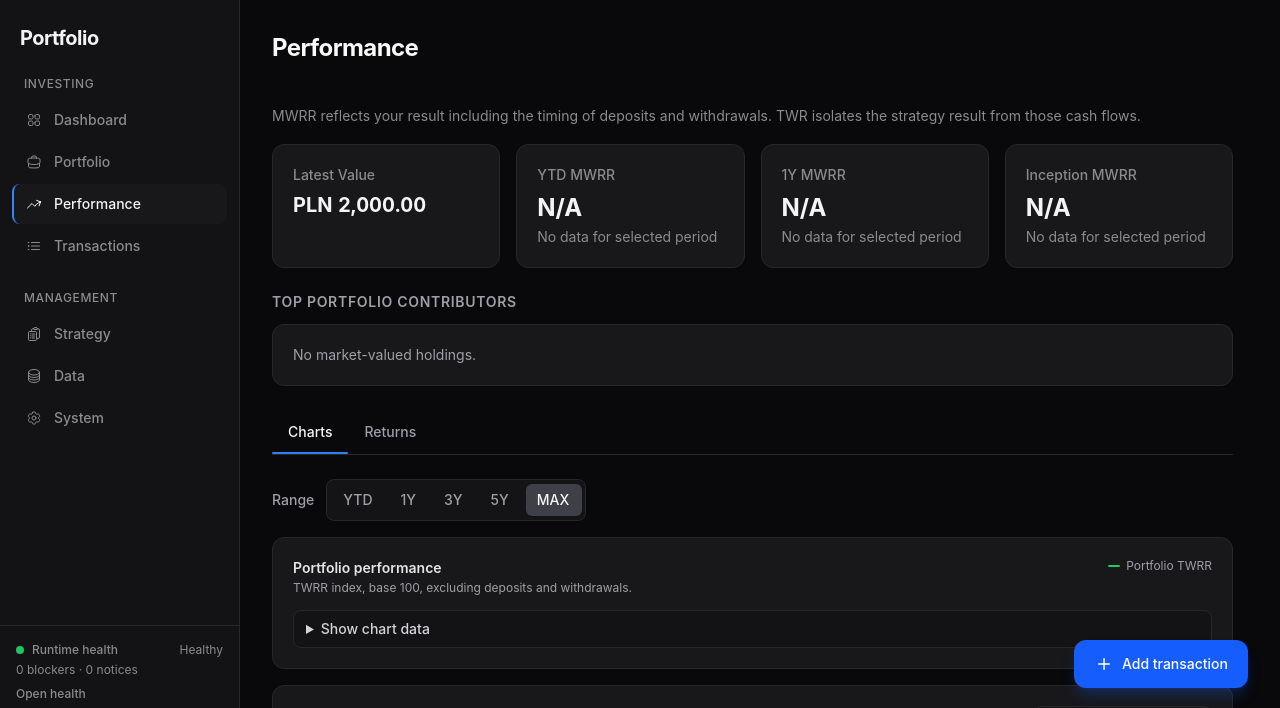
Test: App › shows n/a for return metrics when history is not fully market valued
Expected: the heading "Performance" is shown, x1=272 y1=32 x2=418 y2=64
Step 1. Click the tab "Returns" → (390, 432), box x1=348 y1=410 x2=432 y2=454
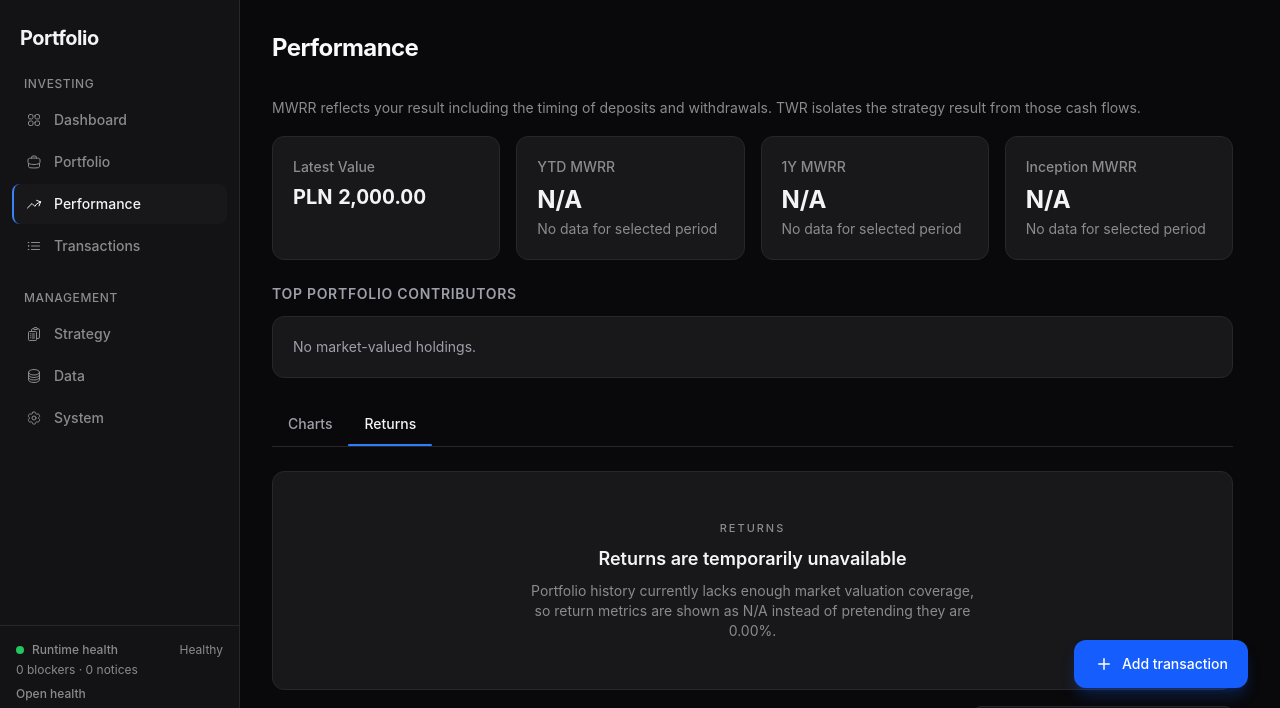
Expected: the heading "Returns are temporarily unavailable" is shown, x1=598 y1=544 x2=907 y2=572
Expected: the text "instead of pretending they are 0.00%" is shown, x1=531 y1=582 x2=974 y2=638
